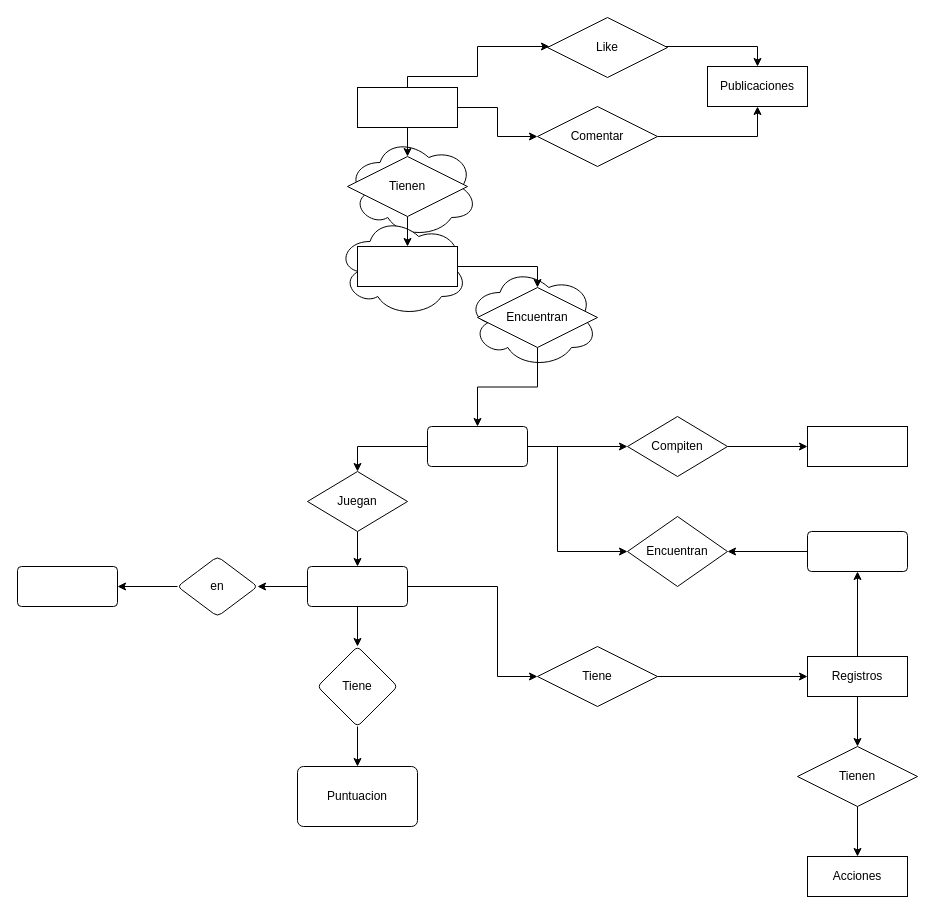
This 935x914 diagram has some shape labels left out. Here are the shapes that lost their labels. From the top down, the centre of each, then its label:
At pixel 407 107: "Usuarios".
At pixel 407 266: "Favoritos".
At pixel 477 446: "Equipos".
At pixel 857 446: "LIga".
At pixel 857 551: "Jugadores".
At pixel 67 586: "stadio".
At pixel 357 586: "Partidos".
